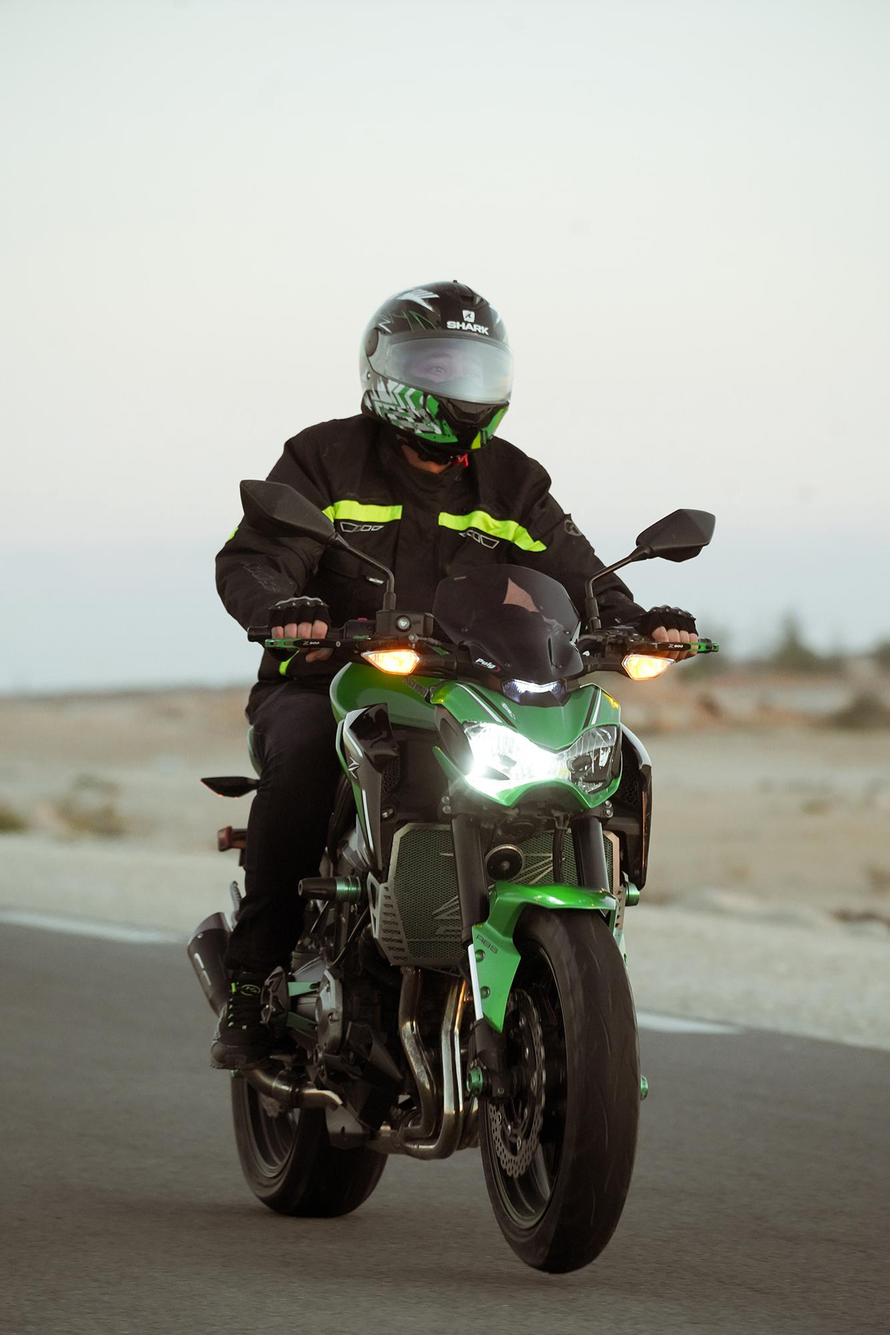helmet: (357, 278, 515, 469)
